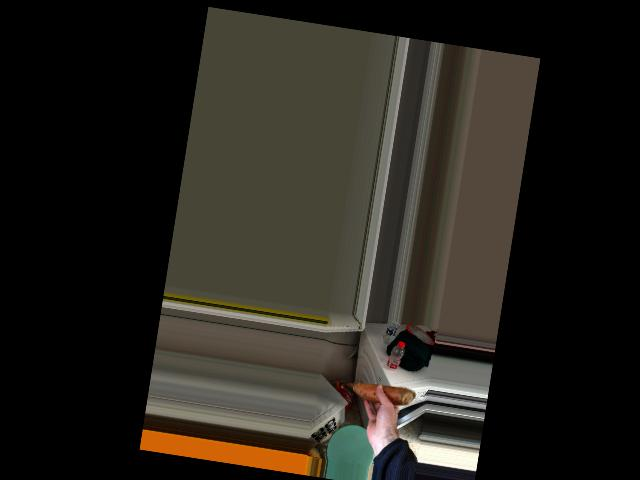sweet_potato: (348, 380, 409, 407)
